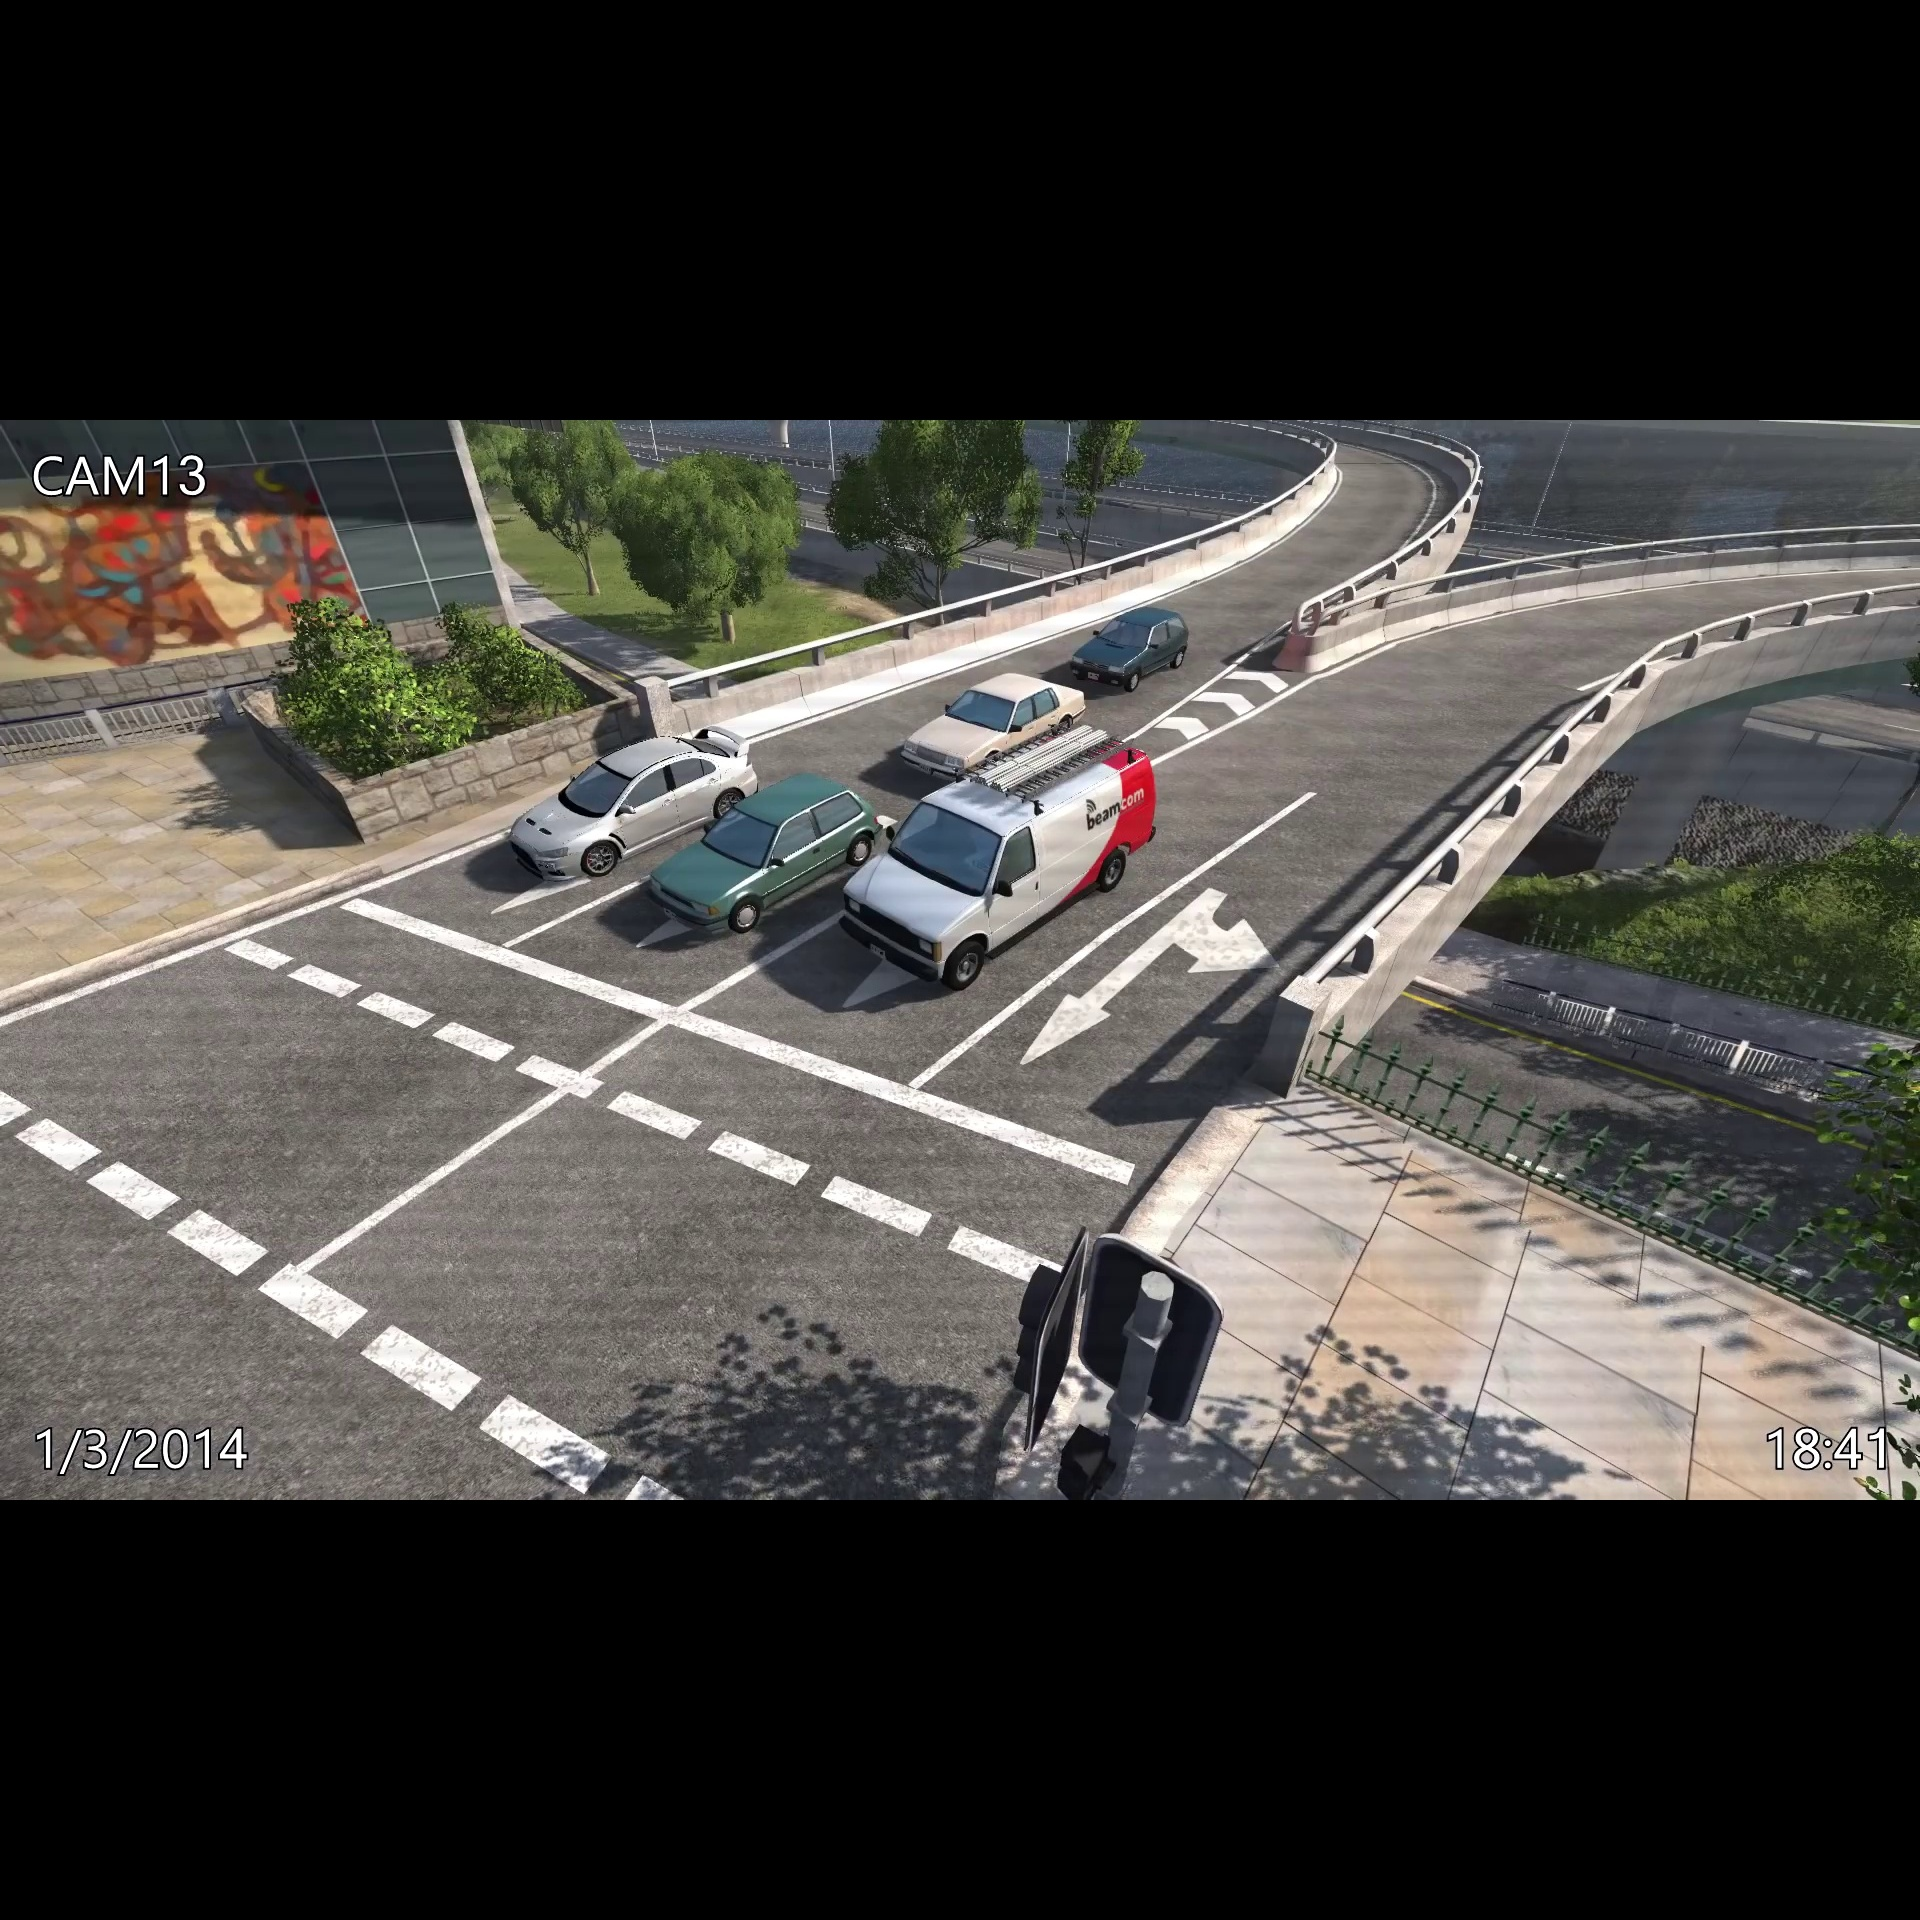vehicle: (830, 716, 1171, 990), (496, 717, 767, 890), (638, 763, 884, 941), (893, 665, 1092, 788), (1065, 600, 1196, 702)
